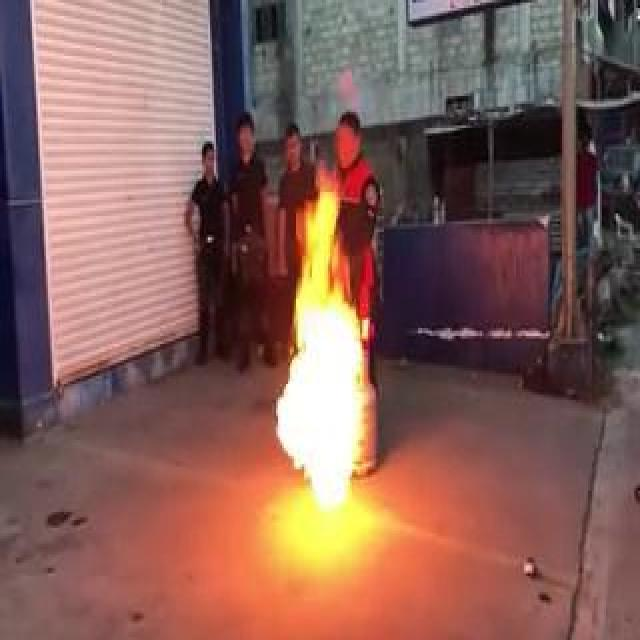Fire: (274, 186, 366, 514)
